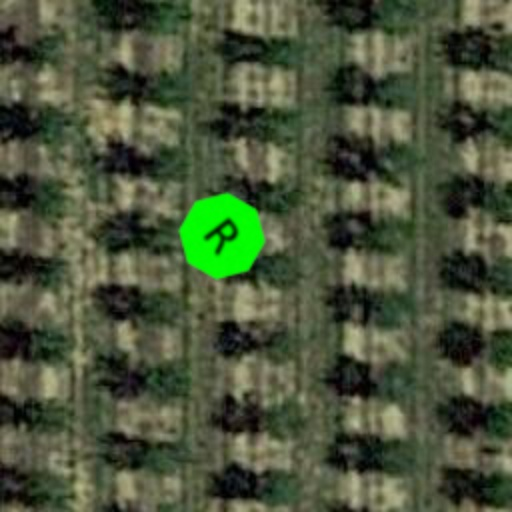octagon: (160, 174, 284, 298)
